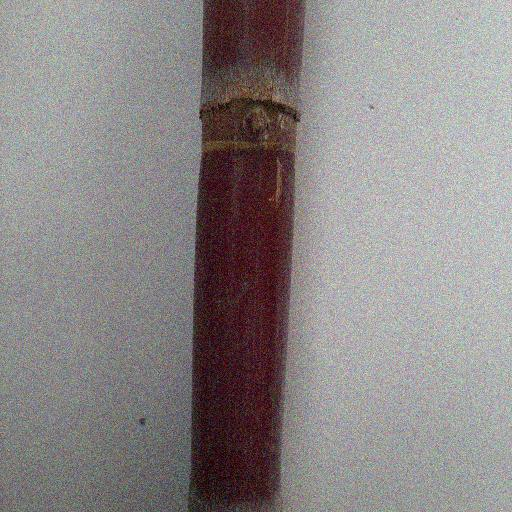Bud: (242, 105, 270, 145)
